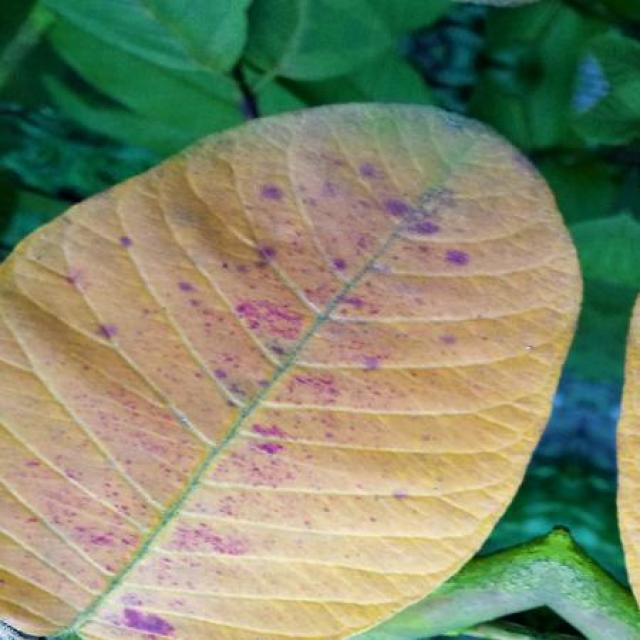Red Rust: (0, 106, 581, 640)
